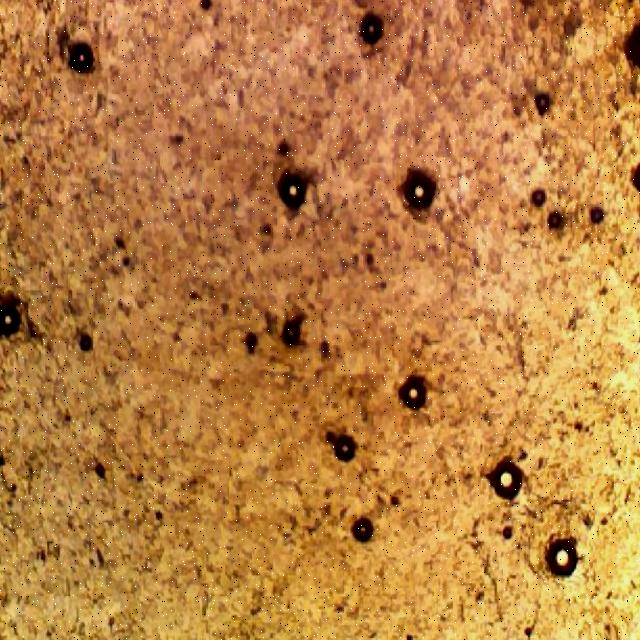microbeads: (278, 164, 310, 210), (404, 166, 436, 208), (400, 378, 426, 408)
